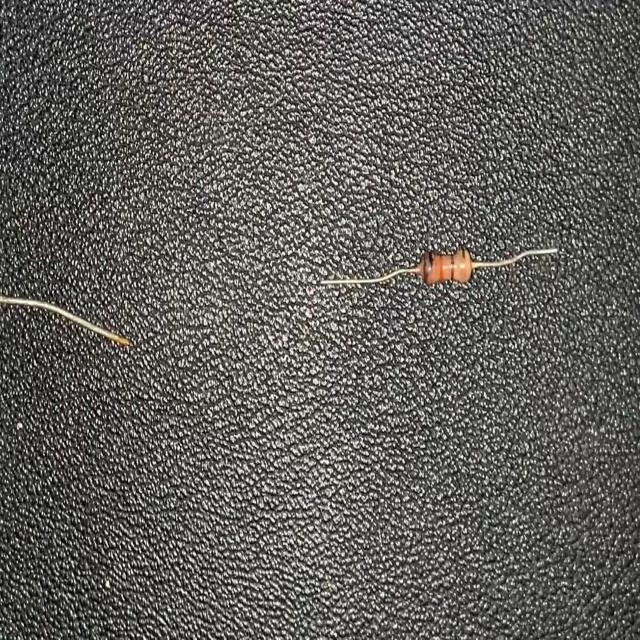burnt: (408, 249, 439, 284)
resistor: (320, 238, 560, 292)
